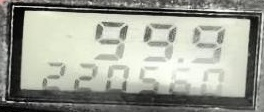-: (176, 55, 183, 64)
0: (199, 67, 224, 96), (104, 63, 129, 91)
2: (71, 62, 97, 92), (39, 61, 65, 90)
5: (136, 64, 160, 94)
6: (168, 65, 192, 94)
9: (91, 19, 128, 60), (141, 22, 176, 62), (190, 24, 225, 63)
